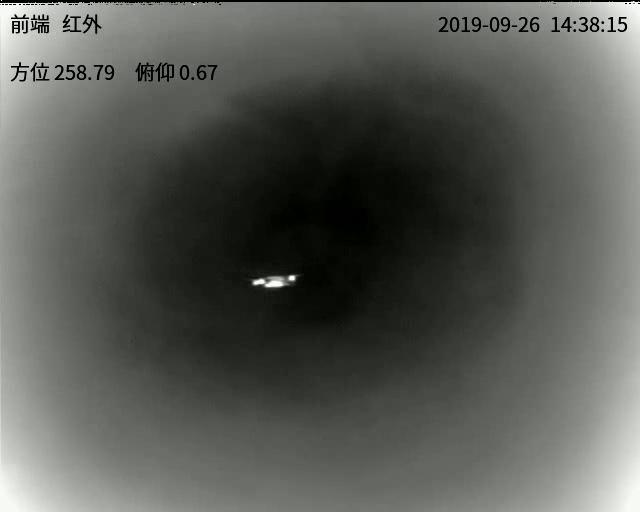DRONE: (249, 272, 302, 289)
